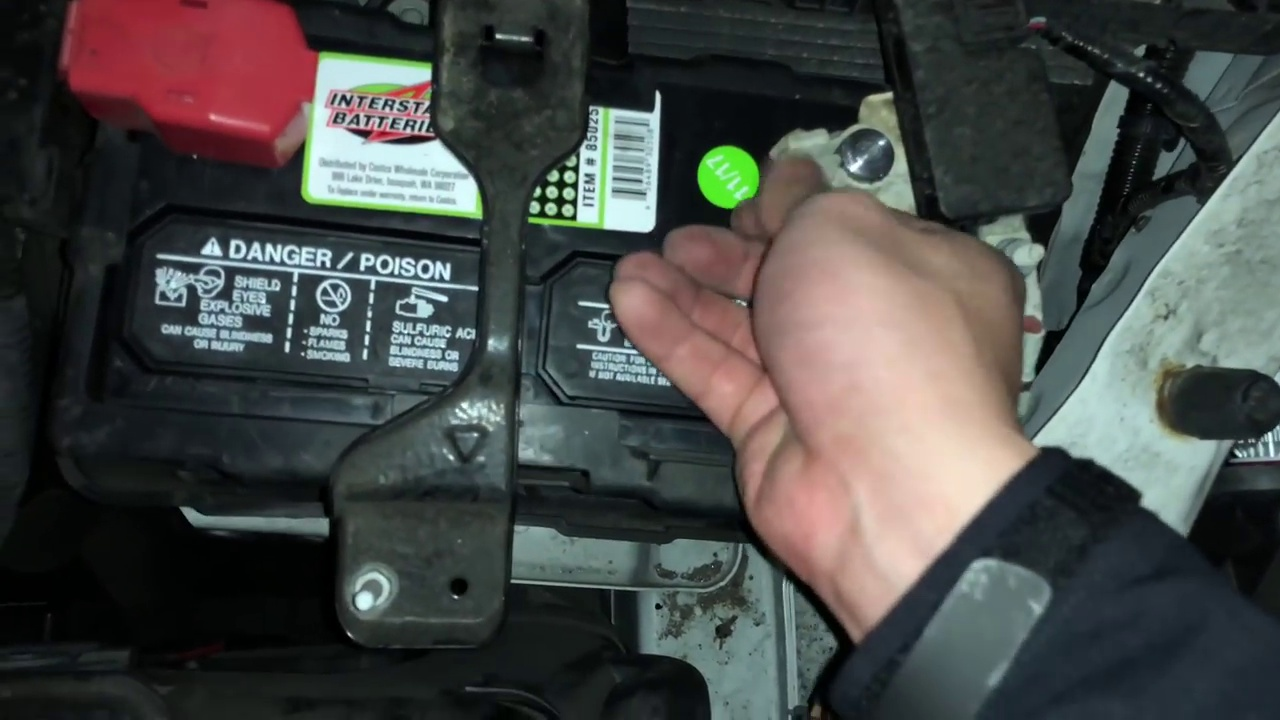battery: (104, 10, 928, 490)
neg_connected: (794, 101, 923, 219)
neg_touched: (748, 51, 948, 398)
pos_connected: (53, 19, 330, 166)
